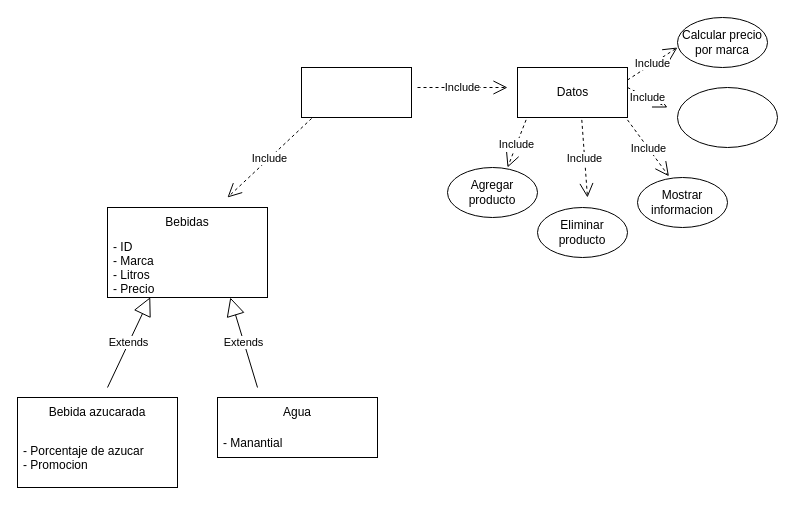
This 795x505 diagram has some shape labels left out. The shapes that lost their labels are listed below. From the top down, each one's centre as x and y in pixels, then its label:
At (356,92): "Almacen".
At (727,117): "Calcular precio de todas las bebidas".
